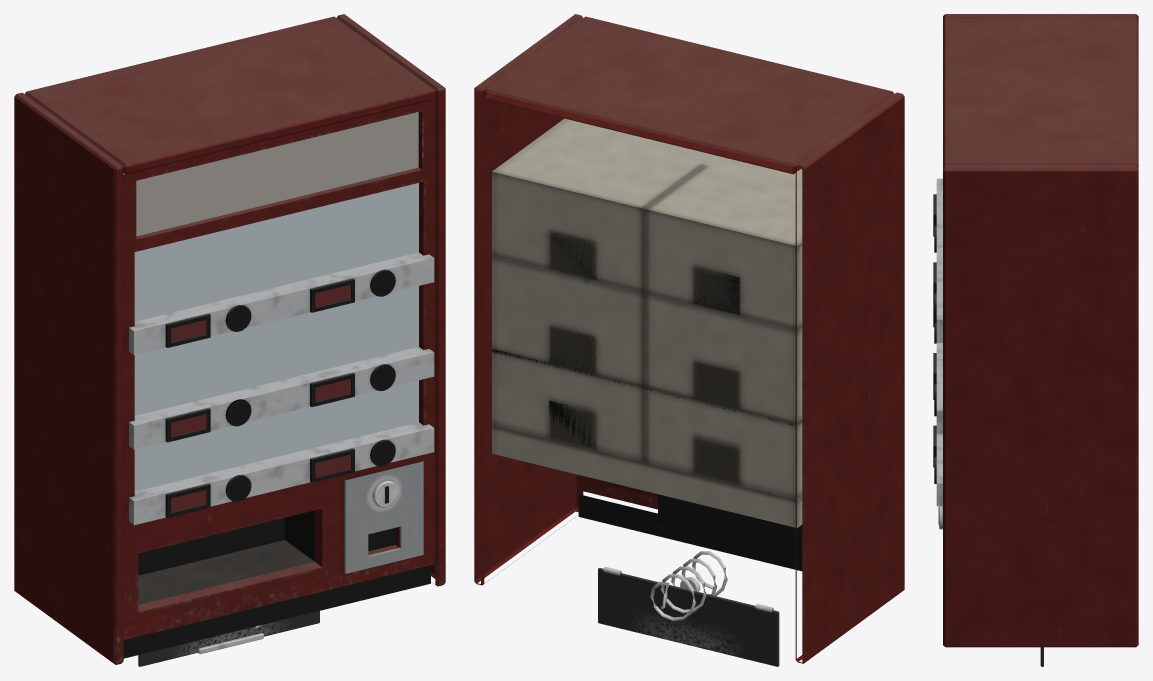
The model's file is Machine.fbx.
3 renders of one model, left to right at view 1: azimuth 30°, elevation 25°; view 2: azimuth 150°, elevation 25°; view 3: azimuth 270°, elevation 25°, orthographic. The views are drawn at different scales.
Parts seen in each view (by area): view 1: Machine, MachineGlass, MachineSign, MachinePrices, MachineFlap; view 2: Machine, MachineFlap, MachineCoil; view 3: Machine.
Part boxes in pixels (left/top/right/bottom): Machine: left=14, top=14, right=445, bottom=664; MachineGlass: left=134, top=183, right=418, bottom=491; MachineSign: left=136, top=112, right=418, bottom=236; MachinePrices: left=171, top=284, right=350, bottom=512; MachineFlap: left=138, top=611, right=319, bottom=666; Machine: left=474, top=14, right=904, bottom=663; MachineFlap: left=598, top=567, right=779, bottom=666; MachineCoil: left=650, top=551, right=727, bottom=620; Machine: left=933, top=14, right=1138, bottom=647.
Size of the model in its own units: 4.6 by 7.35 by 2.56.
5 materials, 1 textured.
